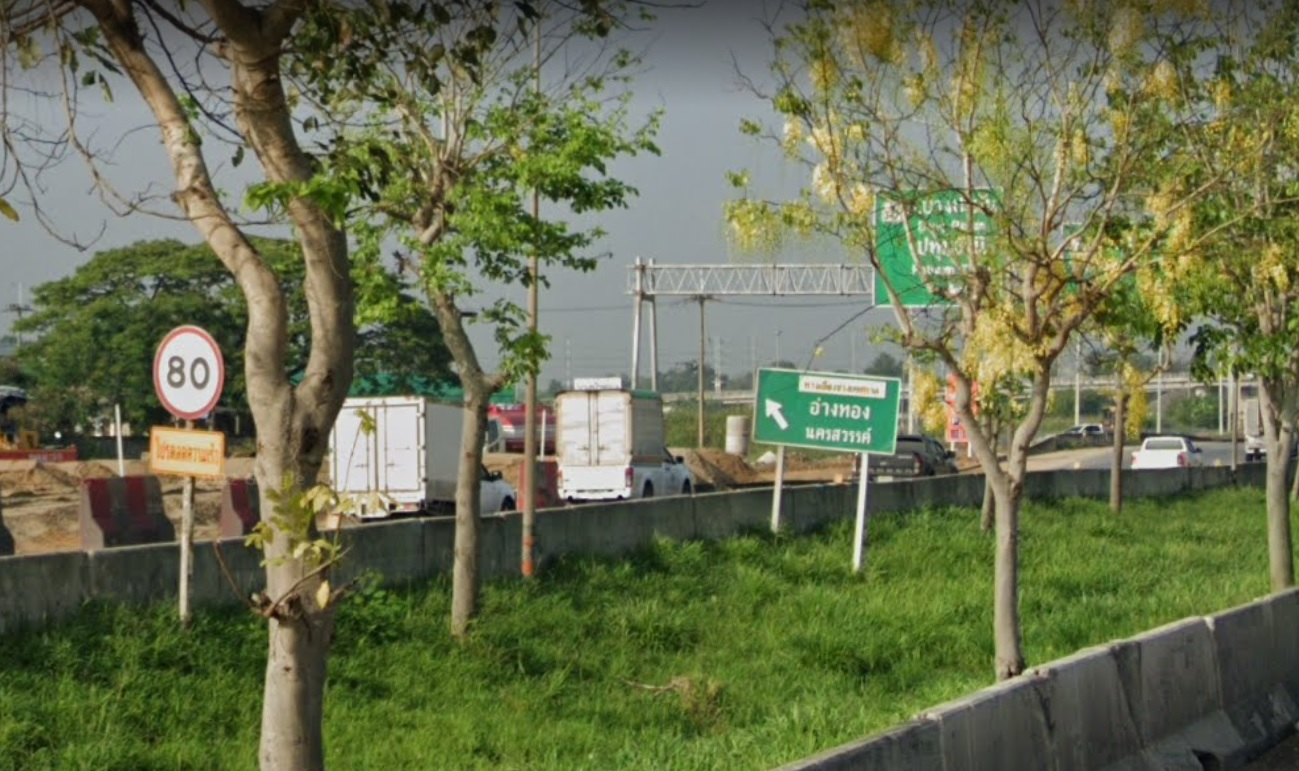80KPH: (152, 320, 226, 423)
